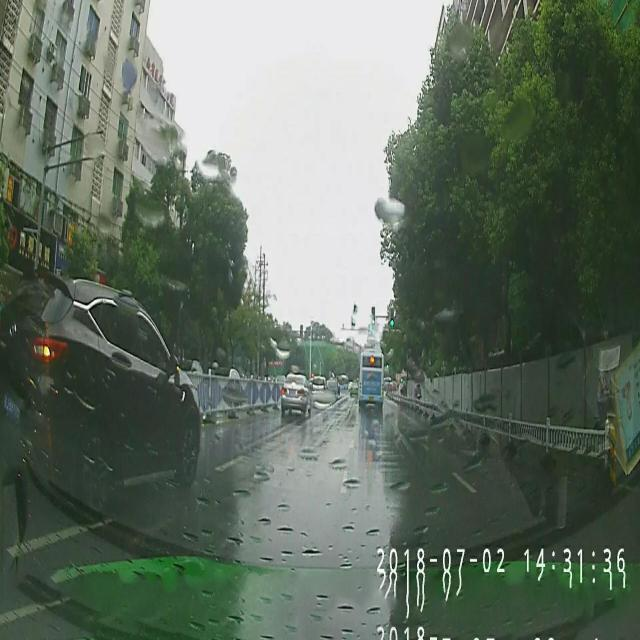car: (0, 263, 201, 511), (280, 372, 312, 418), (310, 374, 328, 400), (348, 382, 358, 396)
